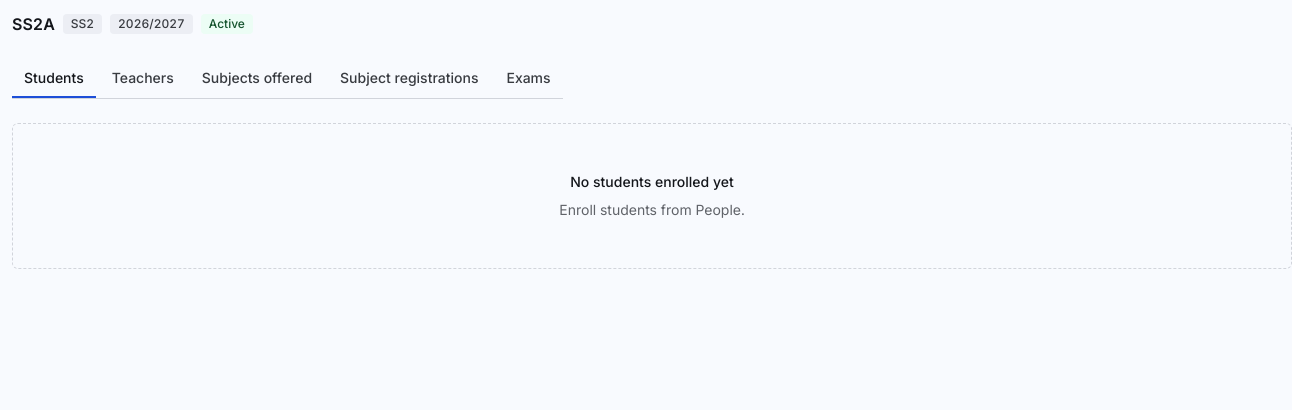
Test: ClassDetailScreen › the Teachers tab shows this phase's own gap-closure data
Click the button "Teachers": (143, 79) x1=100 y1=60 x2=186 y2=98
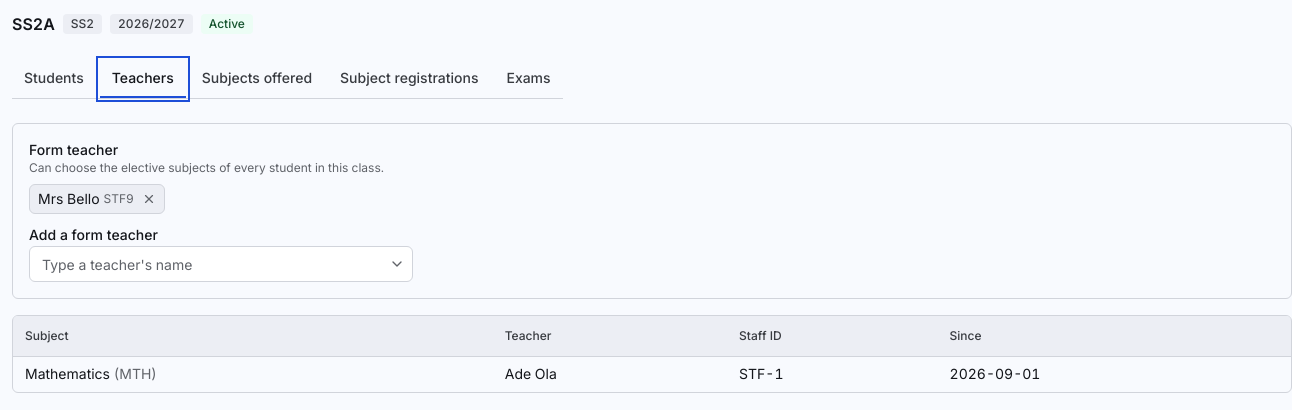
Expected: the text "Ade Ola" is shown, x1=493 y1=356 x2=727 y2=392
Expected: the text "Mathematics (MTH)" is shown, x1=13 y1=356 x2=493 y2=392
Expected: the heading "Form teacher" is shown, x1=29 y1=141 x2=118 y2=158
